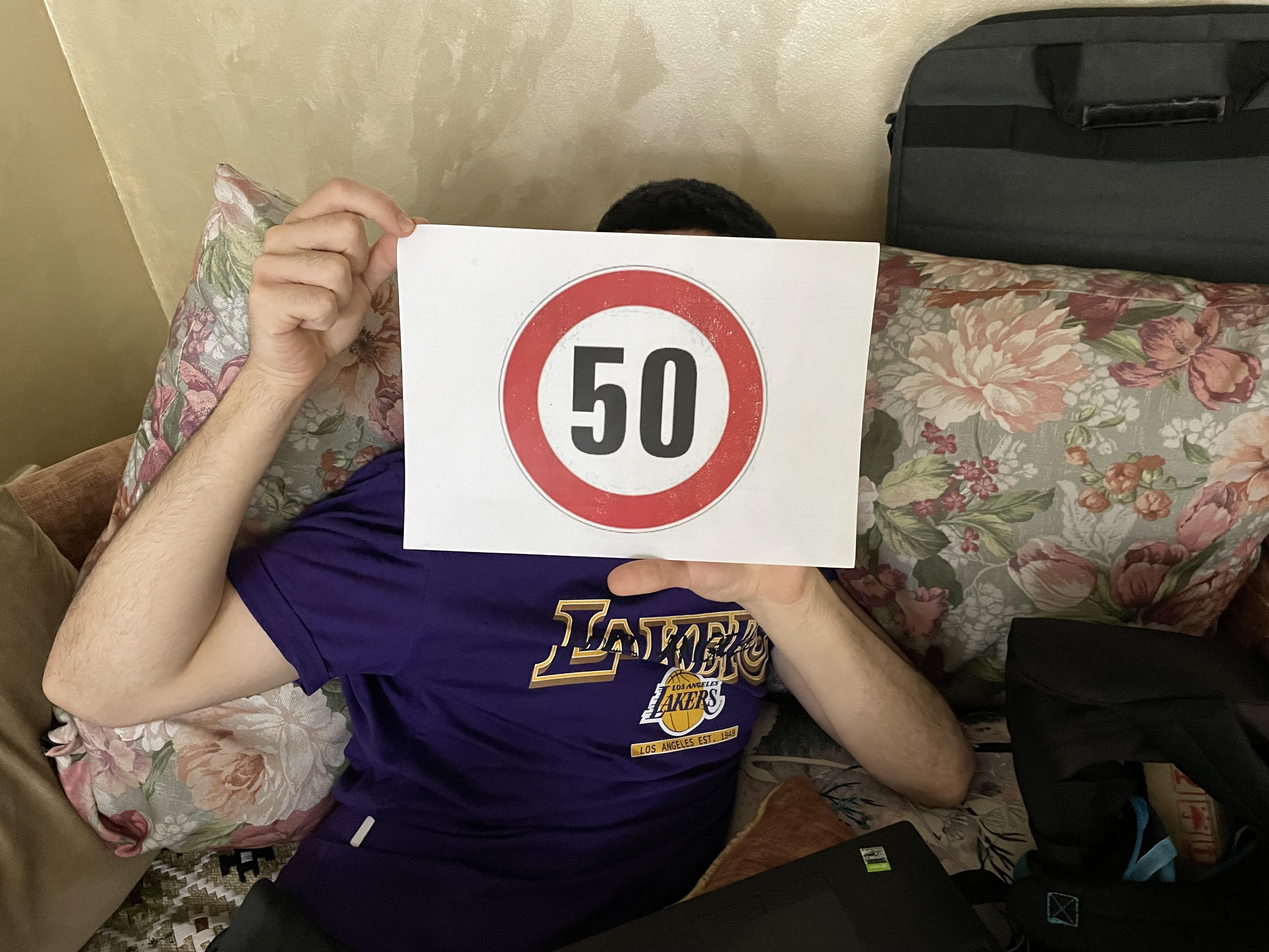50-Speed: (498, 262, 766, 529)
